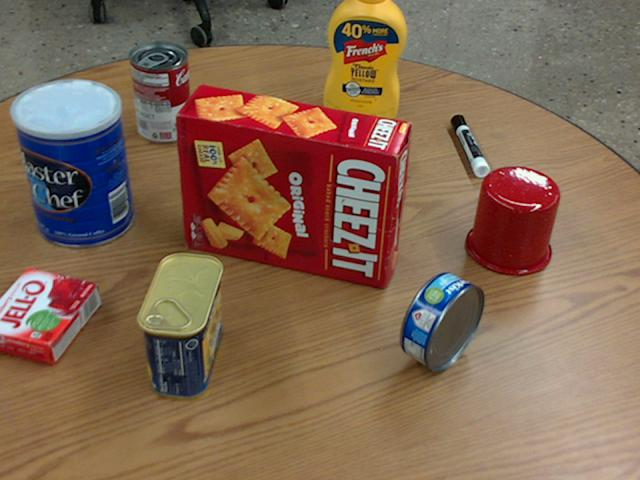cracker_box: (177, 85, 410, 288)
gelatin_box: (0, 267, 97, 362)
large_marker: (452, 114, 490, 176)
master_chef_can: (11, 80, 132, 247)
mug: (465, 165, 559, 274)
mustard_bottle: (325, 0, 407, 120)
potted_meat_can: (134, 251, 221, 397)
sugar_box: (231, 99, 396, 194)
tomato_soup_can: (129, 41, 192, 141)
tuna_fish_can: (401, 271, 483, 370)
